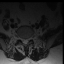CCS_normal: (24, 36, 26, 46)
LFS_normal: (29, 34, 31, 42)
LLS_normal: (26, 36, 29, 45)
RFS_normal: (19, 34, 21, 42)
RLS_normal: (21, 36, 24, 45)
